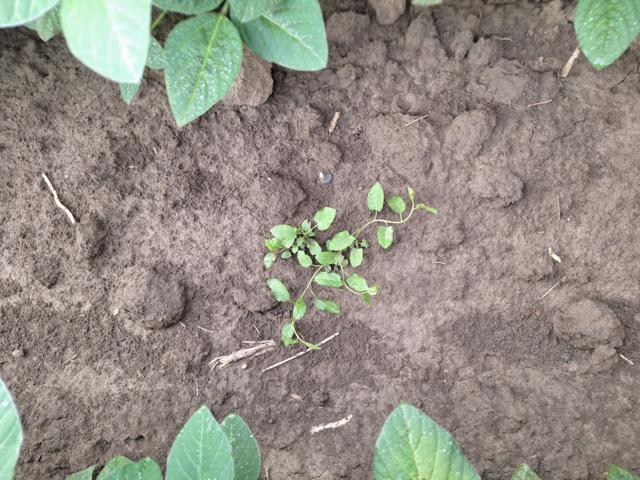bad weed: (235, 155, 434, 355)
